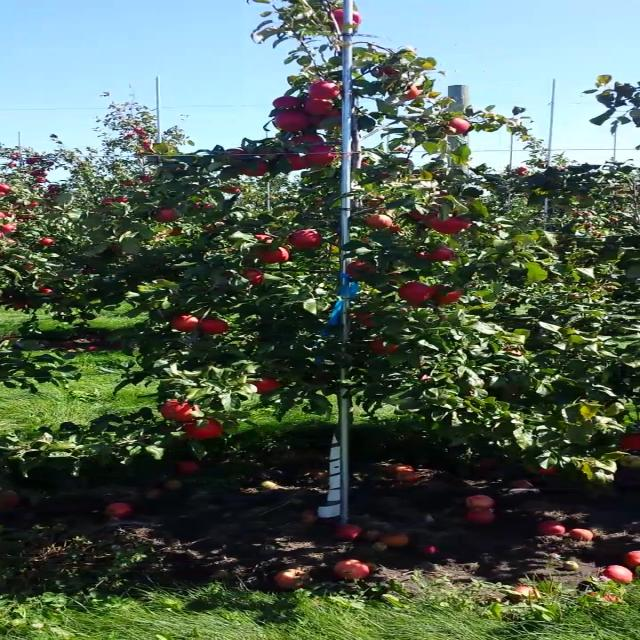apple: (303, 107, 342, 129), (161, 399, 199, 421), (429, 216, 472, 234), (184, 419, 224, 438), (274, 108, 308, 130), (398, 282, 432, 301), (332, 7, 362, 27), (288, 229, 321, 247), (429, 284, 462, 302), (303, 146, 337, 163), (308, 81, 339, 99), (173, 314, 200, 332), (304, 98, 333, 114), (428, 246, 458, 261), (346, 261, 375, 276), (249, 378, 278, 393), (262, 247, 289, 263), (363, 214, 393, 228), (272, 95, 301, 109), (200, 319, 228, 333), (241, 162, 267, 176), (154, 208, 180, 222), (449, 118, 471, 134), (289, 134, 324, 144), (288, 156, 313, 170), (619, 434, 639, 450), (372, 339, 396, 352), (399, 85, 420, 99), (245, 269, 263, 283), (356, 313, 374, 327), (414, 210, 438, 220), (379, 66, 401, 76), (537, 466, 556, 476), (254, 233, 272, 243), (412, 250, 430, 260), (225, 148, 245, 156), (502, 347, 522, 355), (388, 223, 400, 233), (419, 373, 432, 381), (367, 200, 381, 207)
